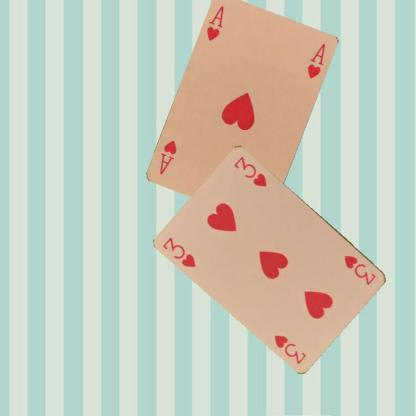3h: (341, 252, 378, 286), (160, 235, 197, 268)
Ah: (204, 3, 225, 43)
